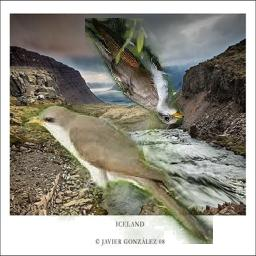Cuckoo: (23, 104, 214, 244), (86, 18, 185, 124)
